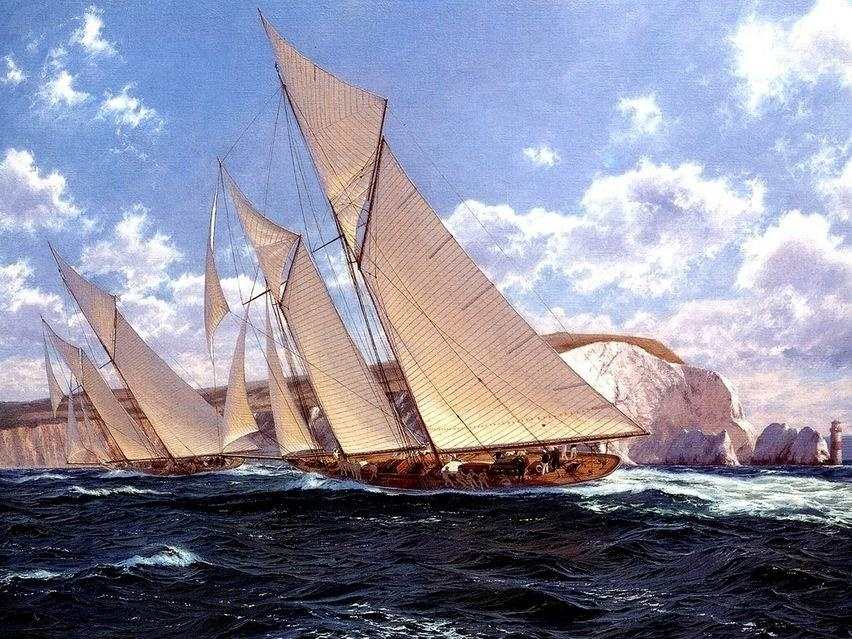fanchuan: (199, 7, 646, 495), (24, 244, 247, 510)
